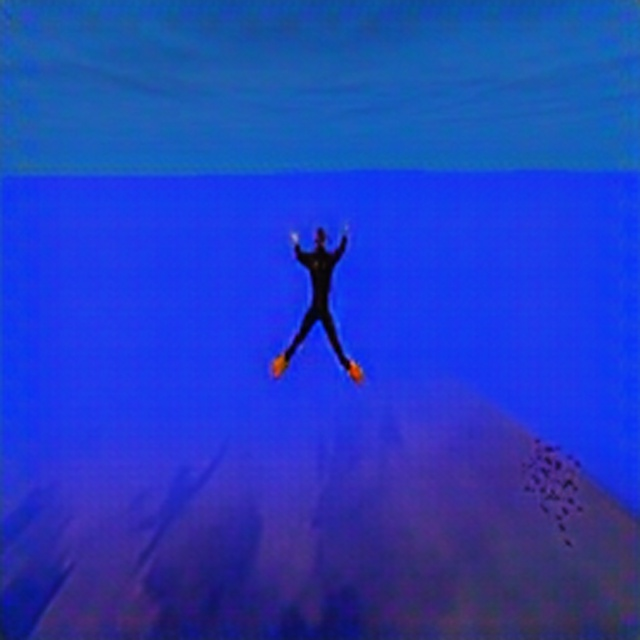diver: (270, 216, 366, 388)
